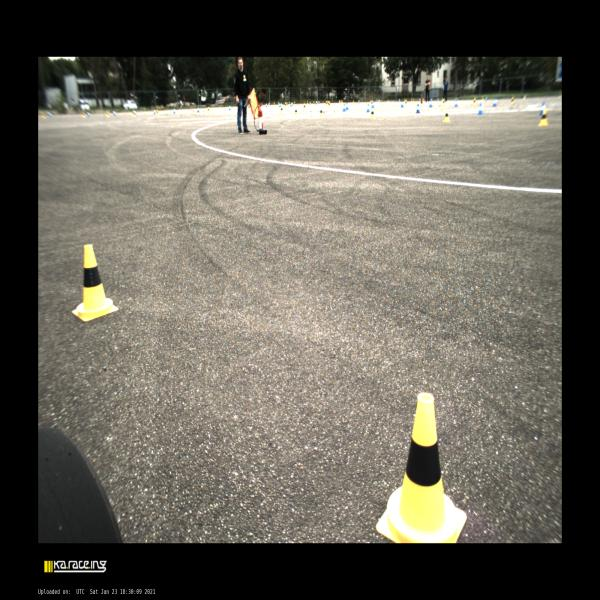blue_cone: (539, 102, 545, 115), (477, 103, 483, 114), (416, 103, 420, 113), (366, 103, 370, 112), (429, 99, 433, 107), (454, 99, 458, 107), (342, 104, 346, 112), (493, 98, 496, 107), (346, 102, 349, 110), (401, 100, 404, 108), (49, 112, 53, 118), (372, 100, 374, 108), (174, 108, 176, 114), (485, 96, 488, 100), (229, 105, 231, 110), (134, 110, 136, 115), (154, 110, 156, 115), (266, 103, 268, 107), (290, 103, 292, 107), (419, 98, 421, 102), (88, 113, 90, 116), (114, 112, 116, 115), (316, 101, 318, 104), (318, 101, 320, 104), (358, 100, 360, 103), (437, 98, 439, 101), (198, 107, 199, 112), (279, 103, 280, 107), (281, 102, 282, 106), (309, 102, 311, 104), (292, 102, 293, 105), (379, 99, 380, 102)
yellow_cone: (376, 393, 466, 543), (73, 245, 118, 322), (538, 110, 548, 126), (443, 110, 450, 122), (370, 108, 375, 119), (319, 108, 323, 117), (294, 108, 298, 116), (473, 98, 476, 106), (511, 97, 514, 104), (280, 106, 283, 113), (442, 99, 445, 106), (43, 112, 46, 118), (328, 101, 331, 107), (559, 92, 562, 98), (481, 95, 484, 100), (303, 103, 305, 110), (133, 111, 135, 117), (284, 102, 286, 108), (405, 100, 407, 106), (156, 110, 158, 115), (248, 104, 250, 109), (404, 98, 406, 103), (84, 114, 86, 118), (108, 113, 110, 117), (288, 101, 290, 105), (370, 100, 372, 104), (387, 99, 389, 103), (411, 98, 413, 102), (422, 98, 424, 102), (523, 95, 525, 99), (208, 106, 209, 112), (326, 100, 327, 106), (327, 100, 328, 106), (340, 100, 342, 103), (441, 98, 443, 101), (269, 102, 270, 106), (274, 102, 275, 106), (278, 102, 279, 106), (313, 101, 314, 105), (294, 101, 295, 105), (307, 100, 308, 104), (413, 98, 414, 102), (342, 100, 343, 103), (353, 100, 354, 103)
